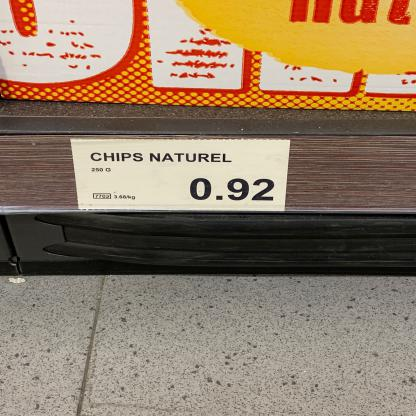prtg: (71, 141, 292, 213)
